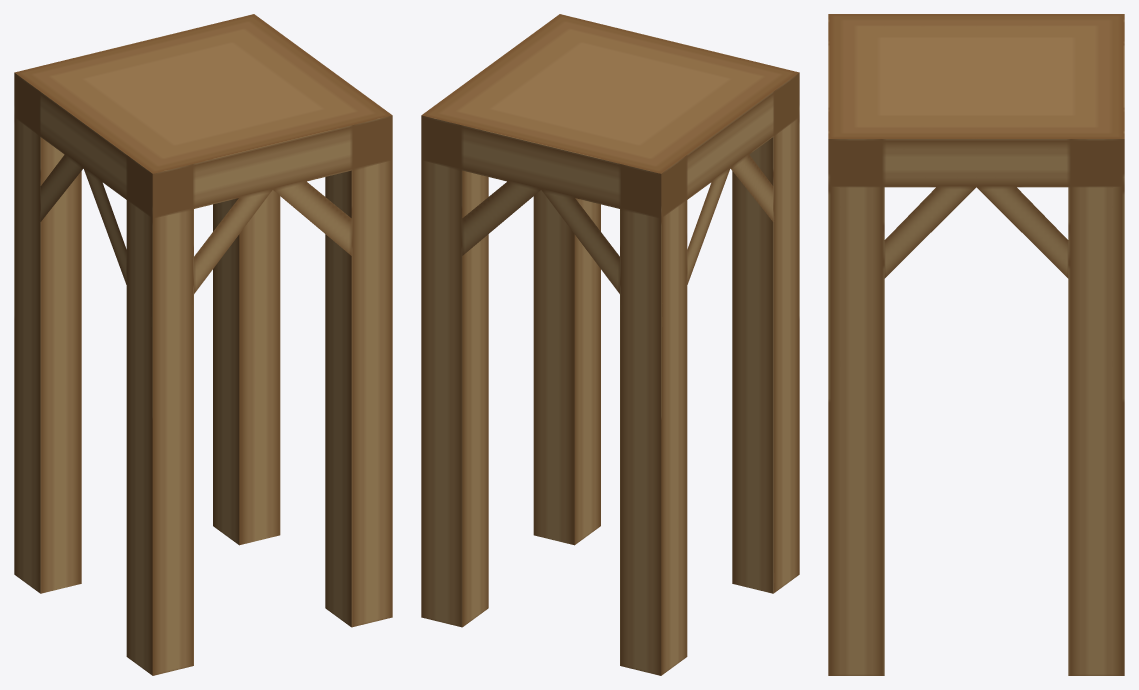
File: built-scaffolding.fbx
3 views of the same model, side by side, from view 1: azimuth 30°, elevation 25°; view 2: azimuth 150°, elevation 25°; view 3: azimuth 270°, elevation 25° (orthographic). The views are drawn at different scales.
Visible parts, largest first — view 1: Cube; view 2: Cube; view 3: Cube.
Part boxes in pixels (bbox=[...]): Cube: bbox=[14, 14, 392, 675]; Cube: bbox=[421, 14, 799, 675]; Cube: bbox=[828, 14, 1124, 675].
Size of the model in its own units: 200 by 400 by 200.
